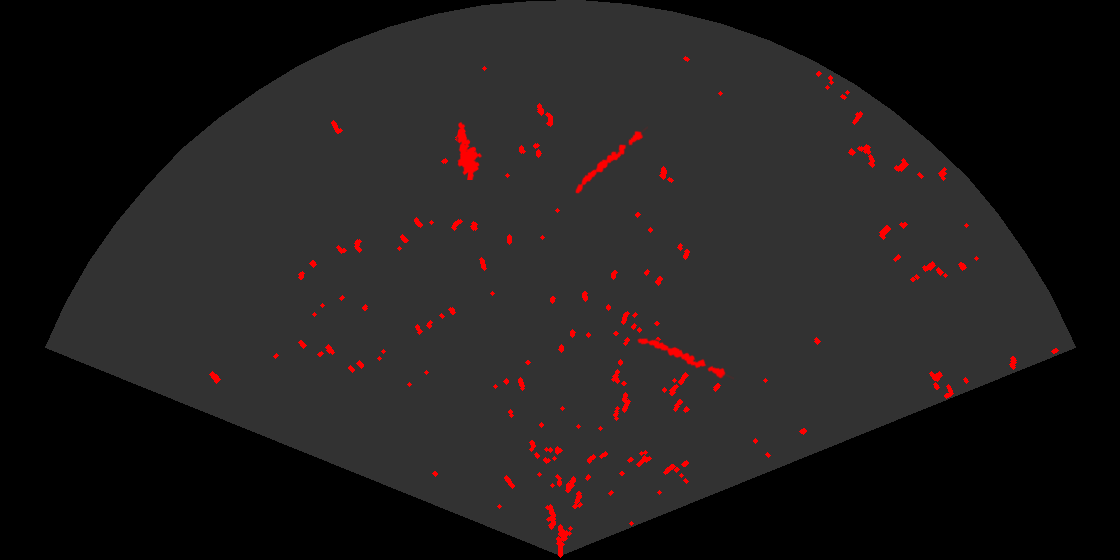chain: (574, 125, 648, 195), (636, 336, 734, 381)
frogman: (456, 120, 484, 180)
